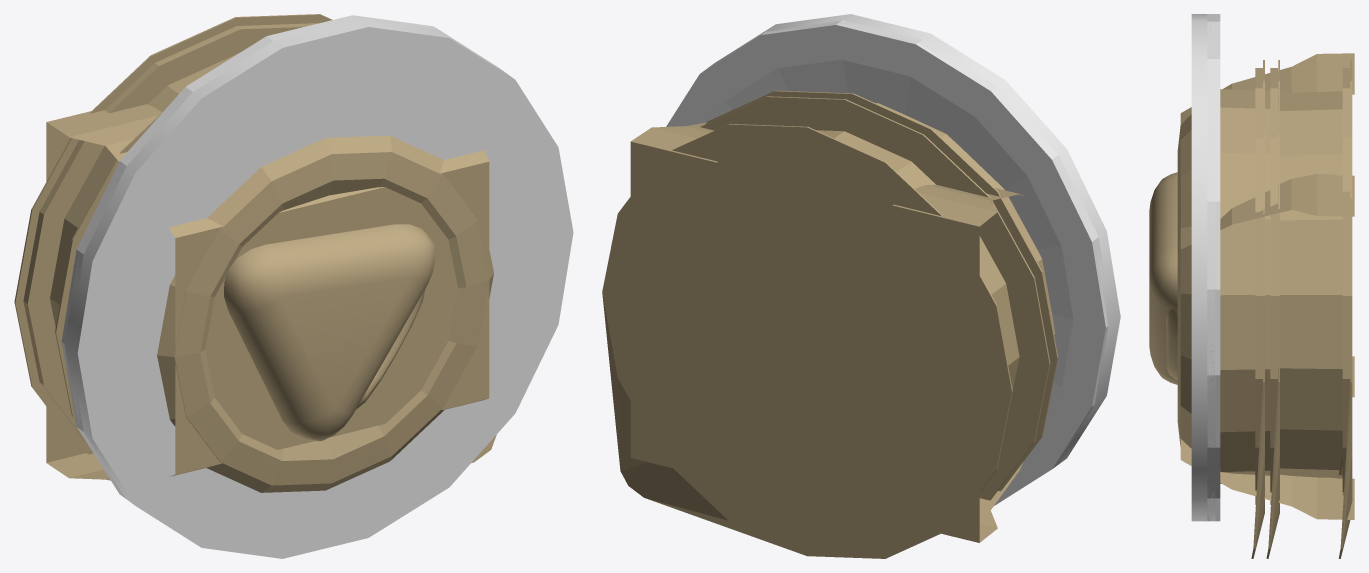
Rendered from cj_whiterice02.fbx.
3 renders of one model, left to right at view 1: azimuth 30°, elevation 25°; view 2: azimuth 150°, elevation 25°; view 3: azimuth 270°, elevation 25°, orthographic. The views are drawn at different scales.
Parts seen in each view (by area): view 1: CJ_Plate01, CJ_WhiteRice200, CJ_WhiteRice210, CJ_TriangleGimbap, CJ_WhiteRice300, CJ_WhiteRice150, CJ_Plate02; view 2: CJ_WhiteRice200, CJ_Plate01, CJ_WhiteRice300, CJ_Plate02, CJ_WhiteRice210, CJ_WhiteRice150; view 3: CJ_WhiteRice300, CJ_WhiteRice210, CJ_Plate01, CJ_WhiteRice200, CJ_WhiteRice150, CJ_Plate02, CJ_TriangleGimbap.
Boxes of the visible parts, x1=… form: CJ_Plate01: x1=61, y1=15, x2=573, y2=558; CJ_WhiteRice200: x1=46, y1=104, x2=489, y2=480; CJ_WhiteRice210: x1=55, y1=111, x2=488, y2=485; CJ_TriangleGimbap: x1=224, y1=224, x2=435, y2=441; CJ_WhiteRice300: x1=14, y1=14, x2=332, y2=454; CJ_WhiteRice150: x1=157, y1=135, x2=496, y2=492; CJ_Plate02: x1=62, y1=16, x2=459, y2=496; CJ_WhiteRice200: x1=630, y1=122, x2=1023, y2=542; CJ_Plate01: x1=666, y1=14, x2=1120, y2=505; CJ_WhiteRice300: x1=602, y1=124, x2=1019, y2=558; CJ_Plate02: x1=714, y1=14, x2=1120, y2=460; CJ_WhiteRice210: x1=700, y1=96, x2=1054, y2=500; CJ_WhiteRice150: x1=706, y1=90, x2=1058, y2=491; CJ_WhiteRice300: x1=1278, y1=60, x2=1352, y2=558; CJ_WhiteRice210: x1=1177, y1=60, x2=1279, y2=558; CJ_Plate01: x1=1191, y1=14, x2=1220, y2=521; CJ_WhiteRice200: x1=1180, y1=53, x2=1354, y2=519; CJ_WhiteRice150: x1=1180, y1=60, x2=1264, y2=558; CJ_Plate02: x1=1191, y1=14, x2=1218, y2=521; CJ_TriangleGimbap: x1=1149, y1=172, x2=1177, y2=384.
Size of the model in its own units: 39.53 by 38.92 by 15.95.
